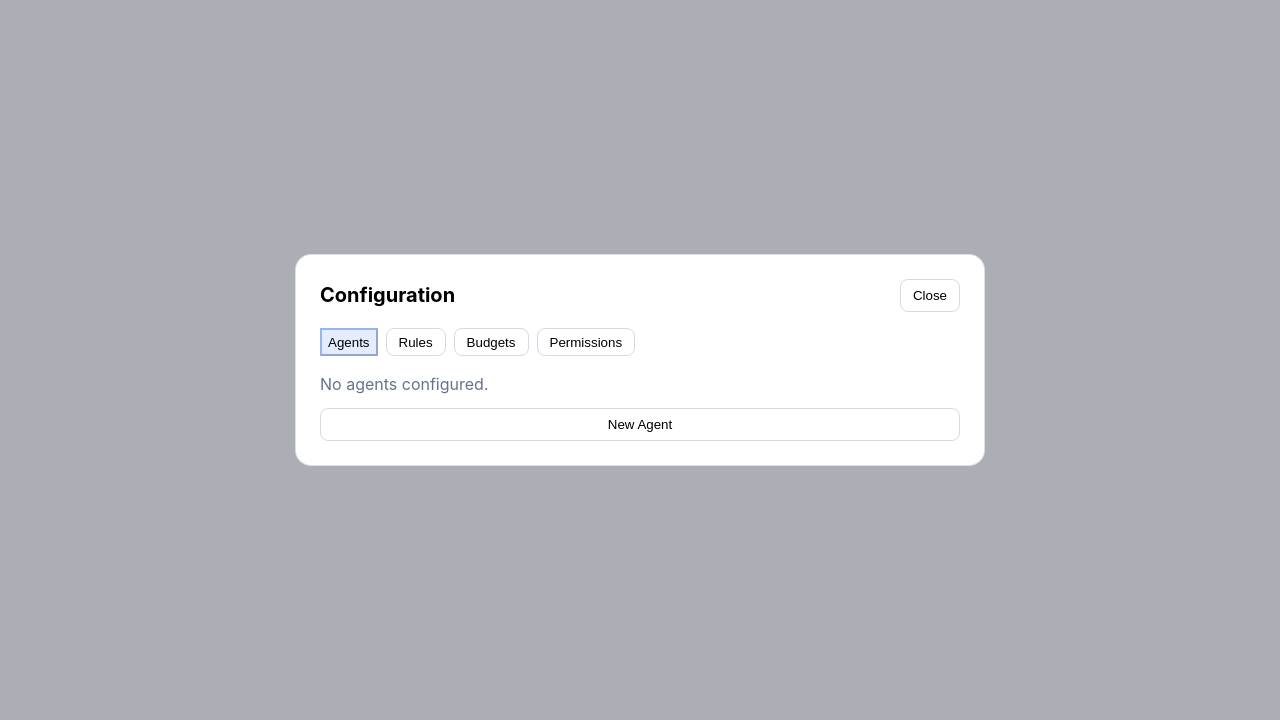
Scenario: ConfigurationDialog › switches to the budgets tab
This screenshot has width=1280, height=720.
Click the button with test id "budgets-tab" at (491, 342), box [454,328,528,356]
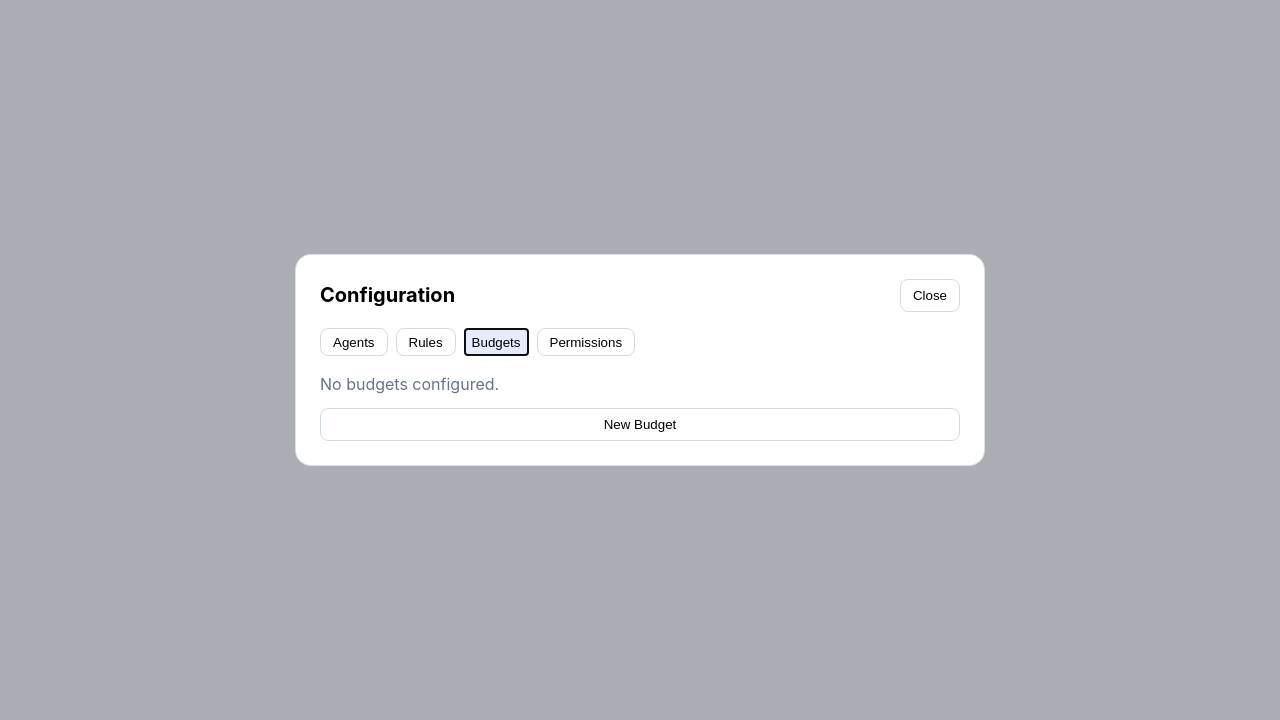
Now the element with test id "budgets-section" is shown, box [320,372,960,441]
Now the text "No budgets configured." is shown, box [320,374,499,394]
